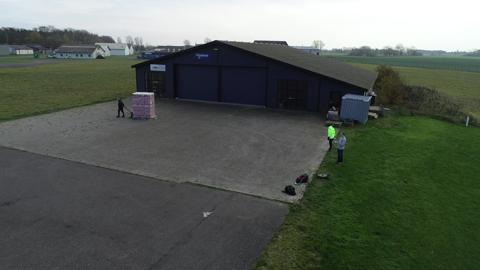RockwoolPallet: (131, 92, 157, 120)
